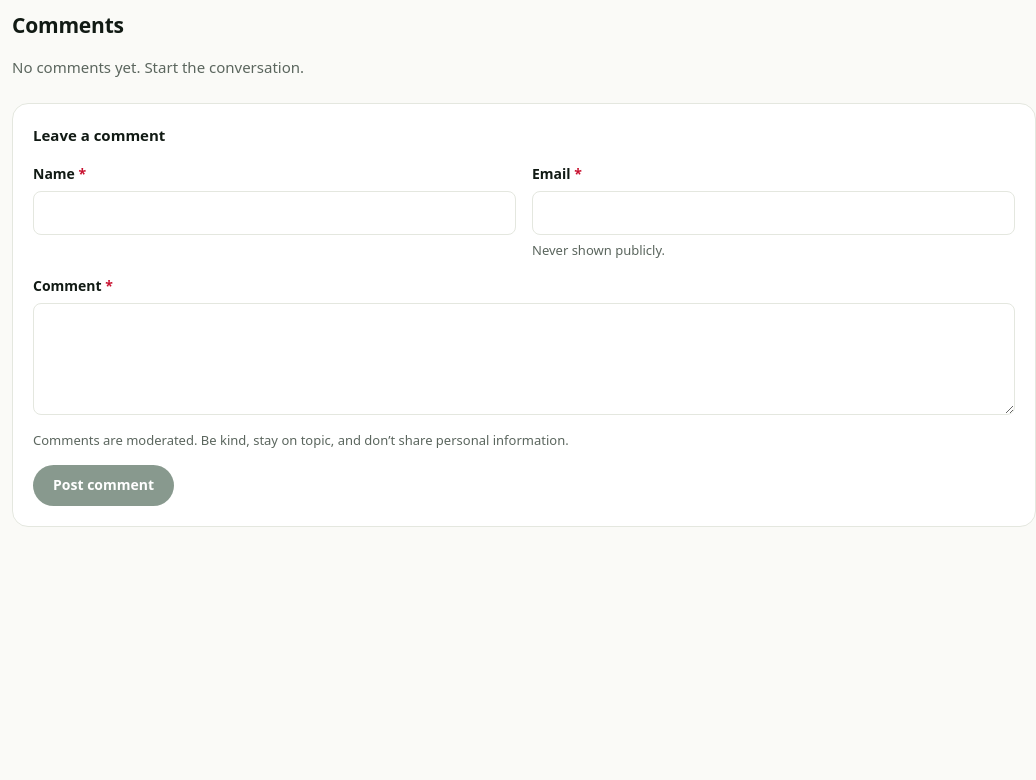
Test: Comments › submits and shows the moderation notice
In the field labelled "Name *": (274, 213) [33,191,516,235], type "Ana"
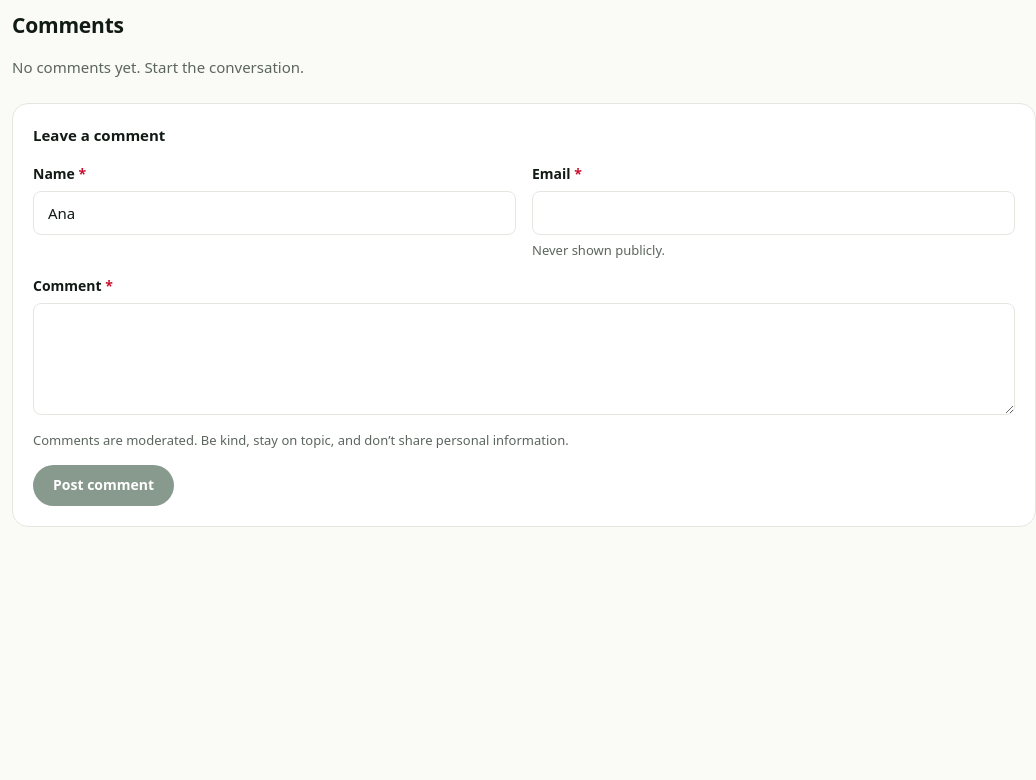
In the field labelled "Email *": (774, 213) [532,191,1015,235], type "ana@example.com"
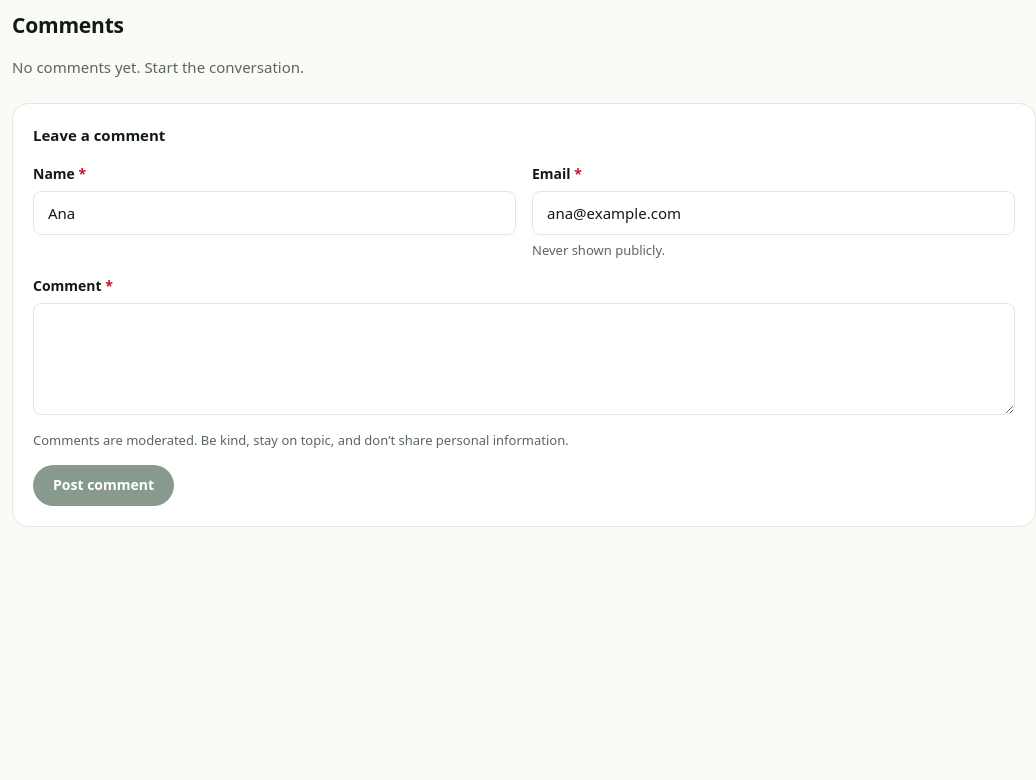
In the text box labelled "Comment *": (524, 359) [33,303,1015,415], type "Great piece"
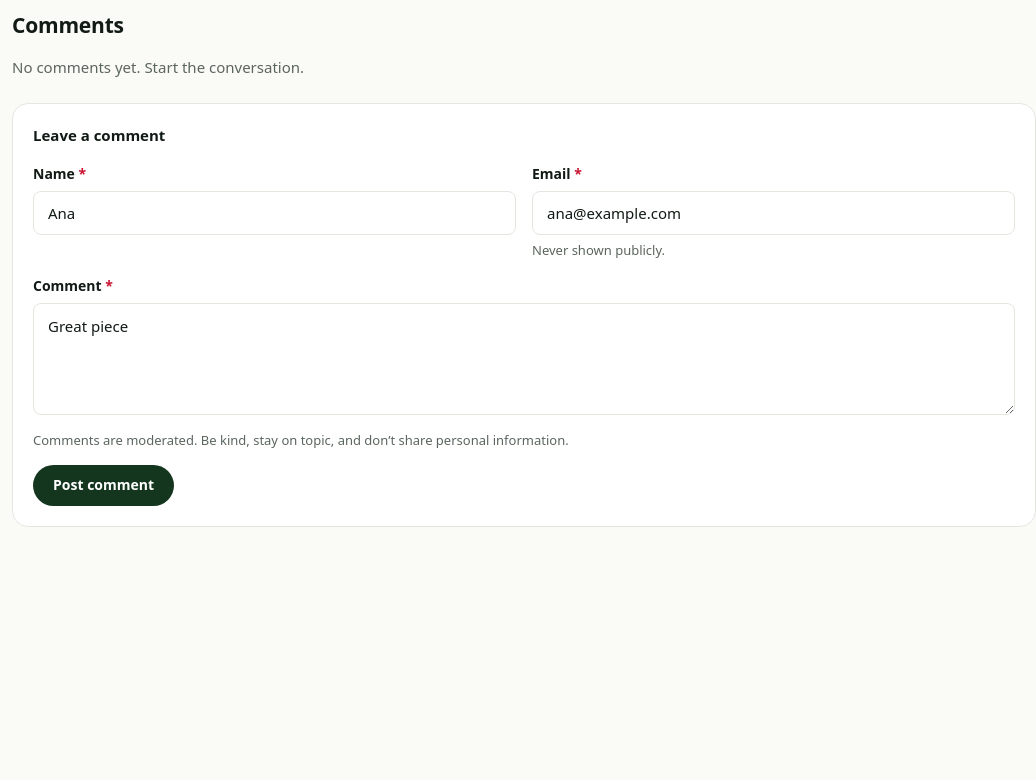
Click the button "Post comment": click(104, 485) [33,465,174,506]
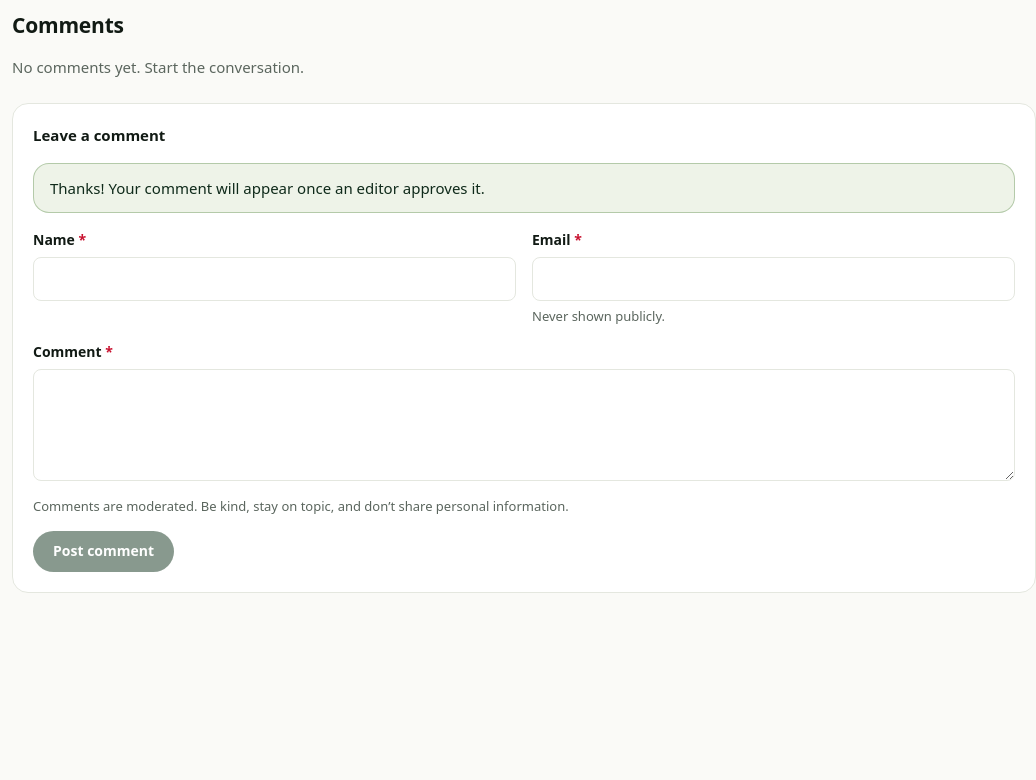
Check: the text "Thanks! Your comment will appear once an editor approves it." is shown, box [33,163,1015,213]
